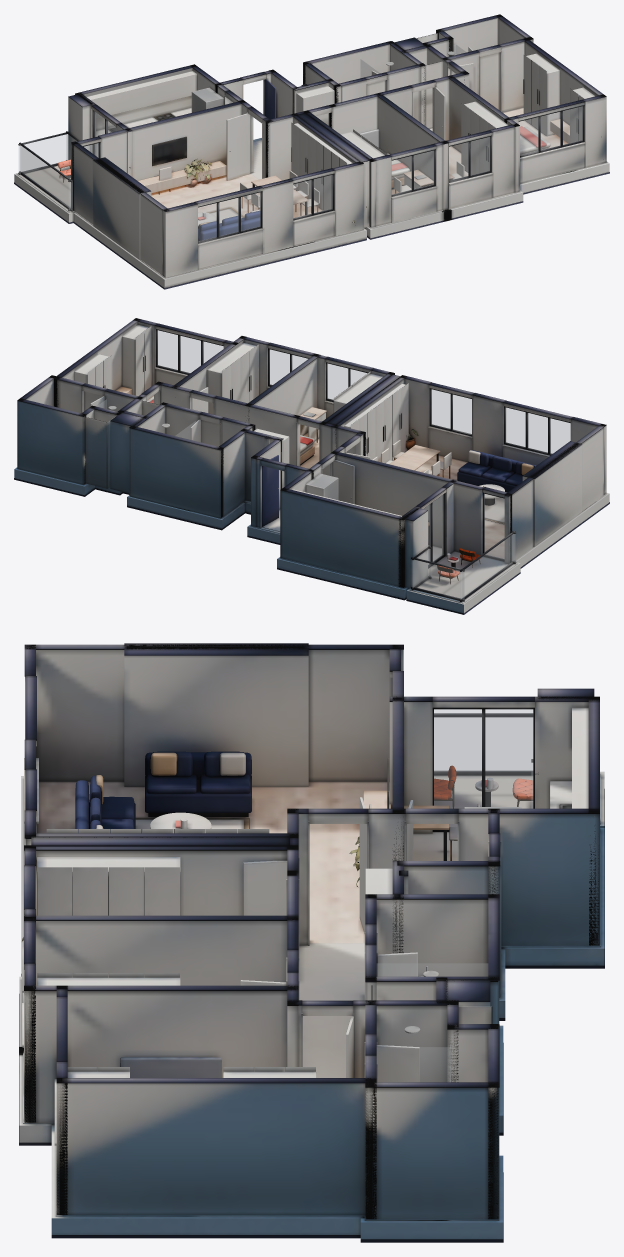
The picture shows the model from 3 angles, top to bottom: view 1: azimuth 30°, elevation 25°; view 2: azimuth 150°, elevation 25°; view 3: azimuth 270°, elevation 25°; orthographic projection. The views are drawn at different scales.
Visible parts, largest first — view 1: plan, glass6_m, glass2_m, railg4_m, glass4_m, glass5_m, glass3_m, railg0_m; view 2: plan, glass2_m, glass6_m, railg4_m, railg0_m, glass3_m, glass1_m, glass0_m, glass4_m, glass5_m, railg5_m; view 3: plan, glass0_m, railg4_m, sg_m, sg.001_m.
Part boxes in pixels (x1,y1,x2,y2): plan: [14, 14, 609, 289]; glass6_m: [519, 106, 582, 155]; glass2_m: [198, 192, 260, 241]; railg4_m: [20, 146, 72, 209]; glass4_m: [392, 151, 434, 194]; glass5_m: [449, 137, 490, 180]; glass3_m: [293, 175, 332, 218]; railg0_m: [19, 134, 67, 172]; plan: [14, 318, 609, 614]; glass2_m: [505, 407, 570, 453]; glass6_m: [157, 330, 223, 373]; railg4_m: [460, 534, 514, 599]; railg0_m: [413, 560, 464, 599]; glass3_m: [431, 389, 471, 434]; glass1_m: [484, 494, 504, 558]; glass0_m: [424, 494, 443, 561]; glass4_m: [327, 363, 366, 399]; glass5_m: [269, 350, 307, 384]; railg5_m: [412, 549, 429, 587]; plan: [19, 643, 604, 1242]; glass0_m: [434, 709, 532, 826]; railg4_m: [434, 718, 532, 770]; sg_m: [377, 963, 487, 976]; sg.001_m: [420, 1047, 450, 1081].
Bounding box in the file's own units: 16.54 × 2.62 × 9.08.
Materials: 2 (1 with a texture image).
